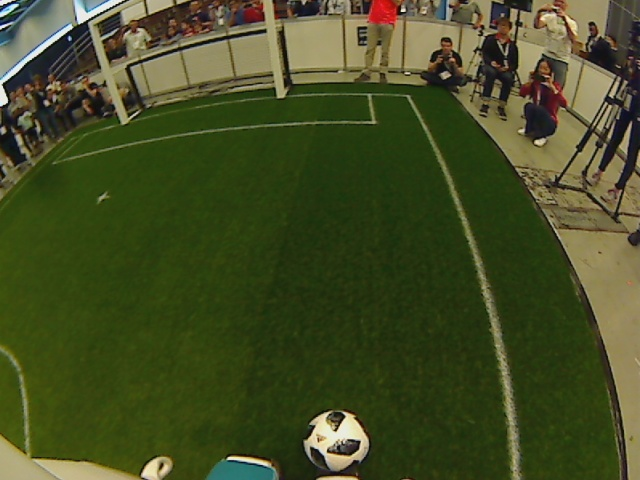ball: (299, 407, 371, 473)
